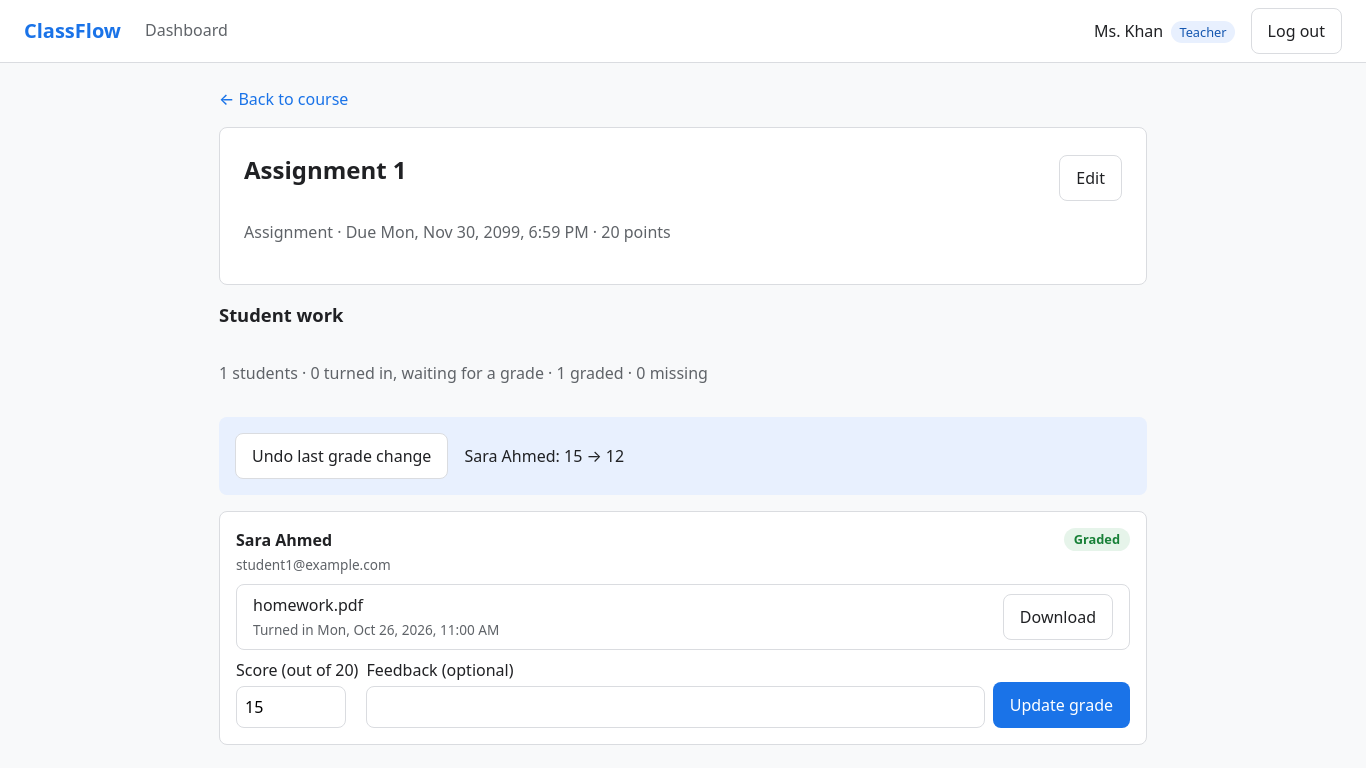
Test: undo last grade change › puts the restored score back in the form, one step at a time
This screenshot has width=1366, height=768.
Expected: the number field labelled "Score (out of 20)" holds "15", left=236, top=686, right=346, bottom=728
Click the button "Undo last grade change" at (342,456), box left=235, top=433, right=448, bottom=479
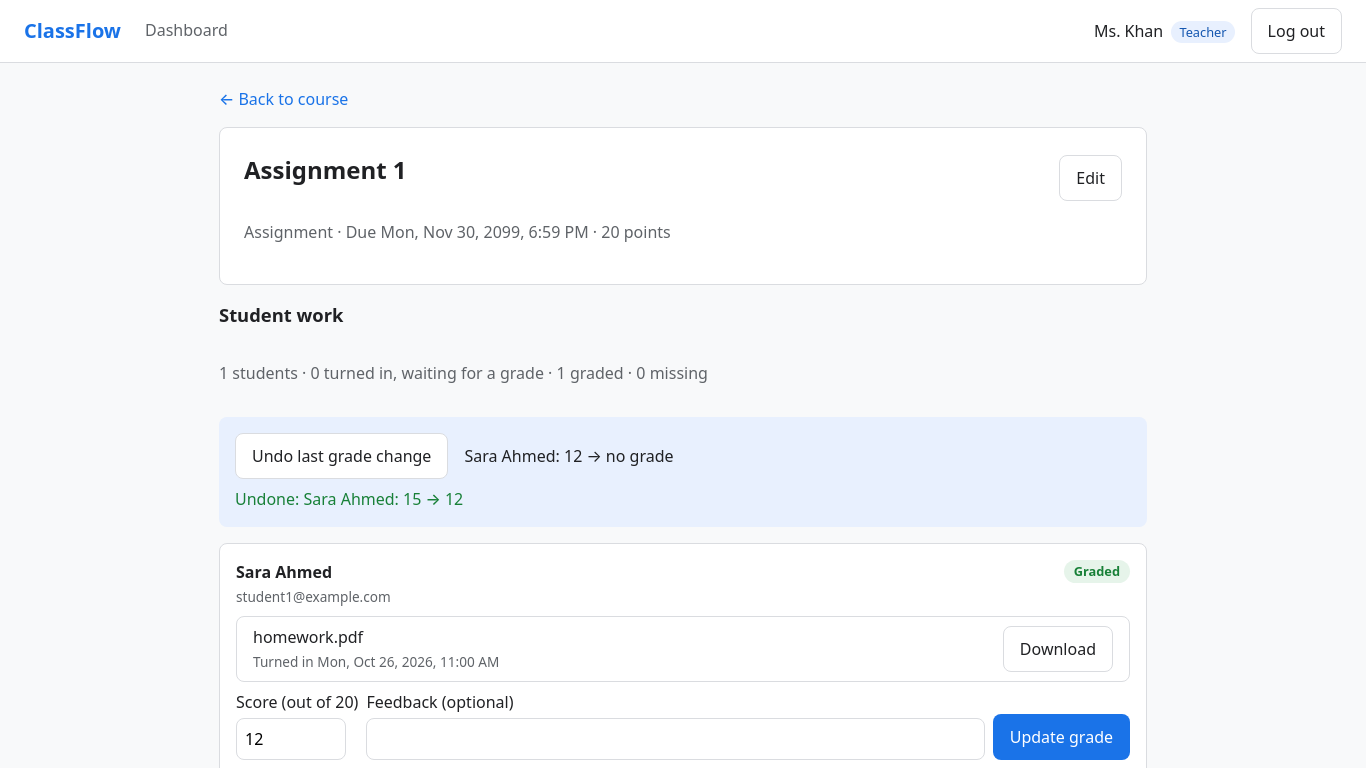
Result: the number field labelled "Score (out of 20)" holds "12" at left=236, top=718, right=346, bottom=760
Result: the text "Sara Ahmed: 12 → no grade" is shown at left=464, top=444, right=674, bottom=468
